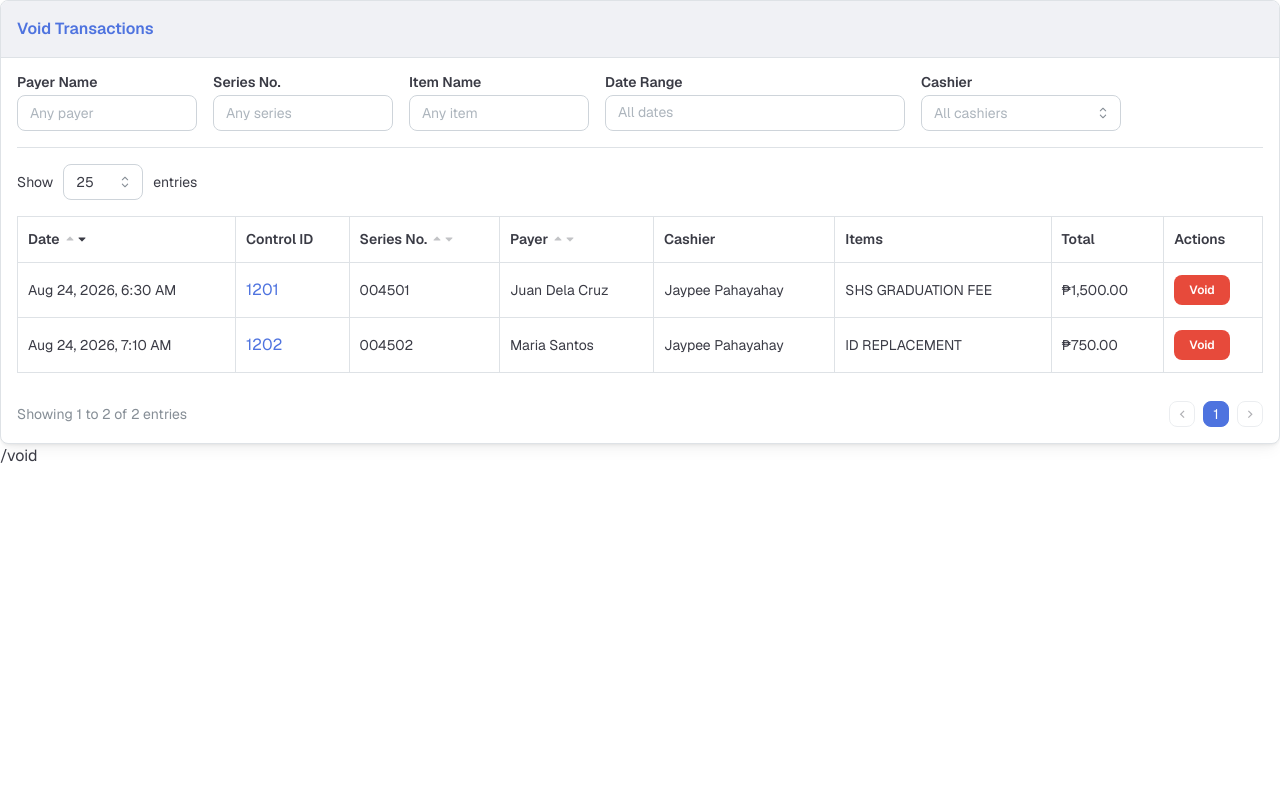
Test case: VoidTransactionPage › names the transaction being voided, enough to tell it from its neighbour
The width and height of the screenshot is (1280, 800).
Click the button "Void" in the row of "Aug 24, 2026, 6:30 AM": x=1202, y=290 [1174,276,1230,306]
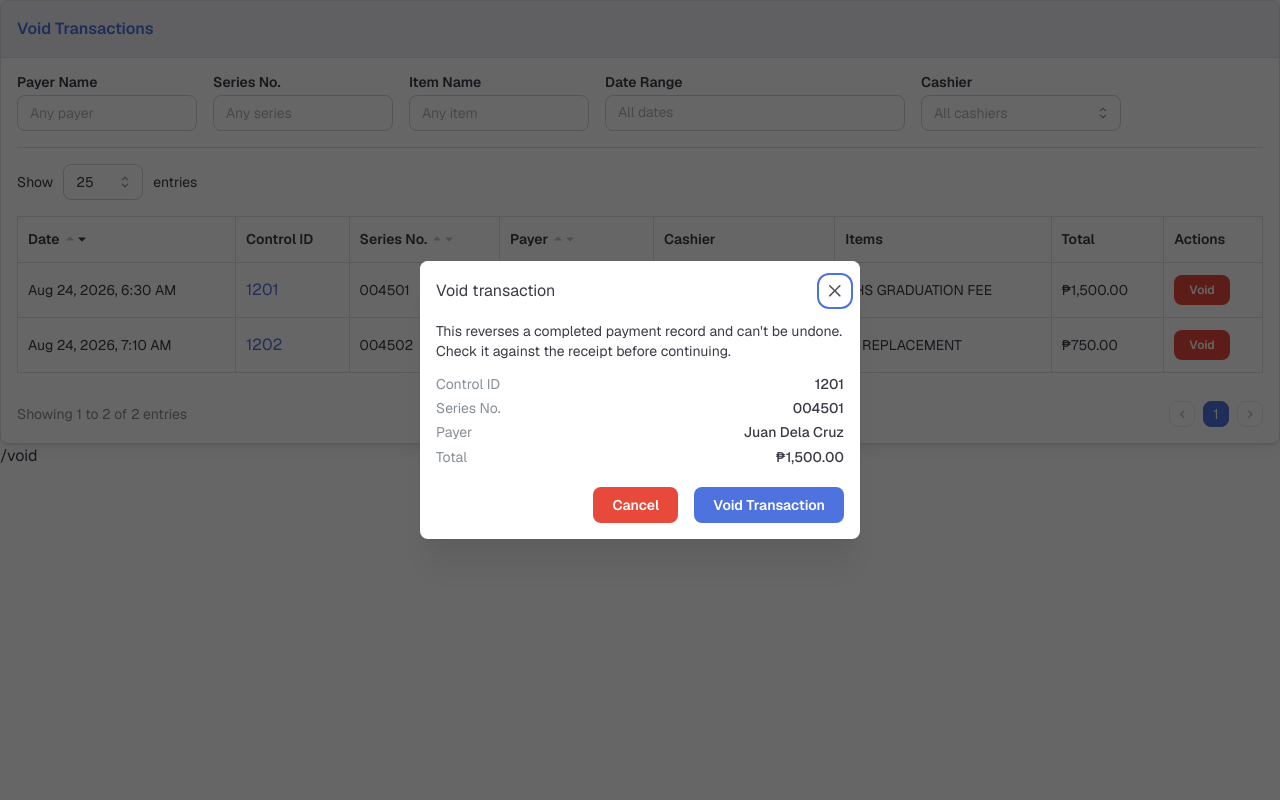
Now the text "1201" is shown, box [815,374,844,394]
Now the text "004501" is shown, box [793,398,844,418]
Now the text "Juan Dela Cruz" is shown, box [744,422,844,443]
